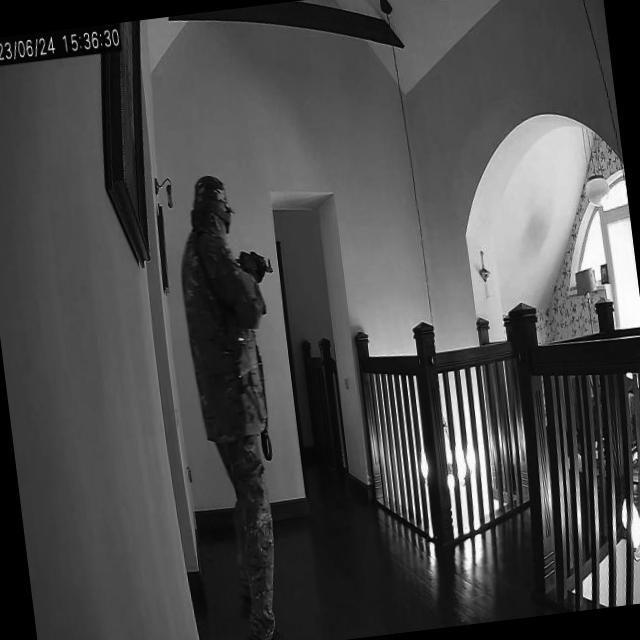gun: (230, 244, 275, 283)
person with a gun: (166, 167, 323, 640)
